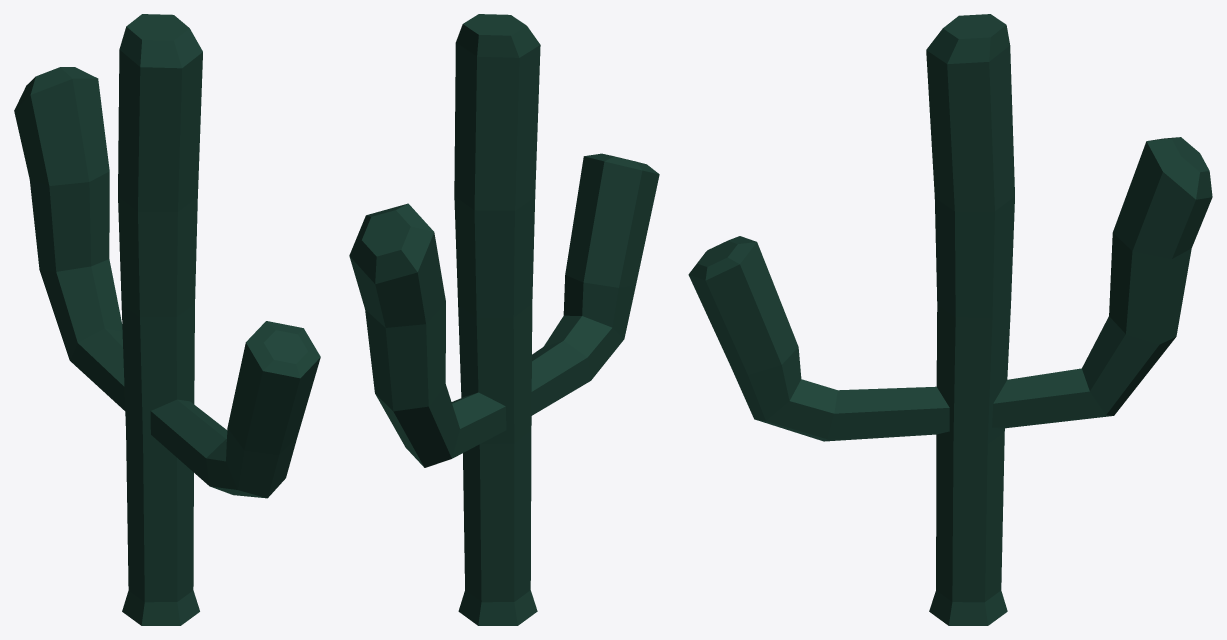
Rendered from st1_tree9.fbx.
3 views of the same model, side by side, from view 1: azimuth 30°, elevation 25°; view 2: azimuth 150°, elevation 25°; view 3: azimuth 270°, elevation 25° (orthographic).
Parts seen in each view (by area): view 1: BezierCurve_002; view 2: BezierCurve_002; view 3: BezierCurve_002.
Boxes of the visible parts, x1,y1,x2,y2 form: BezierCurve_002: [14, 14, 320, 625]; BezierCurve_002: [349, 14, 659, 625]; BezierCurve_002: [688, 14, 1212, 625].
Bounding box in the file's own units: 24.2 × 200 × 162.
